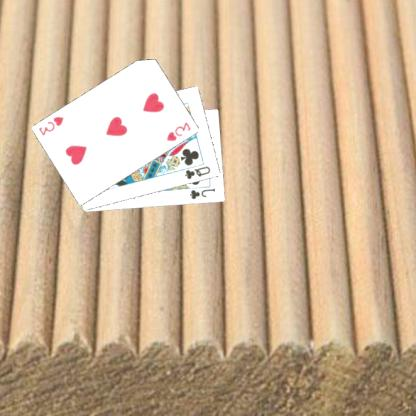3H: (166, 118, 194, 142), (38, 114, 67, 137)
JC: (189, 186, 219, 201)
QC: (184, 163, 214, 181)
